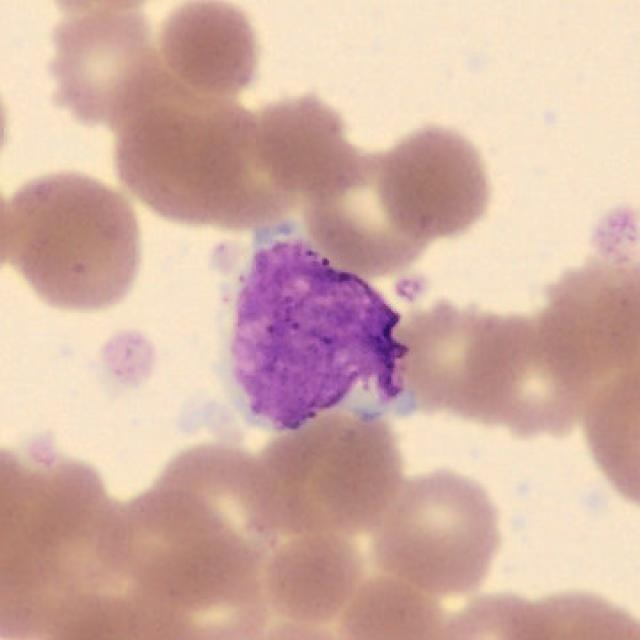Linfocito: (228, 226, 414, 432)
